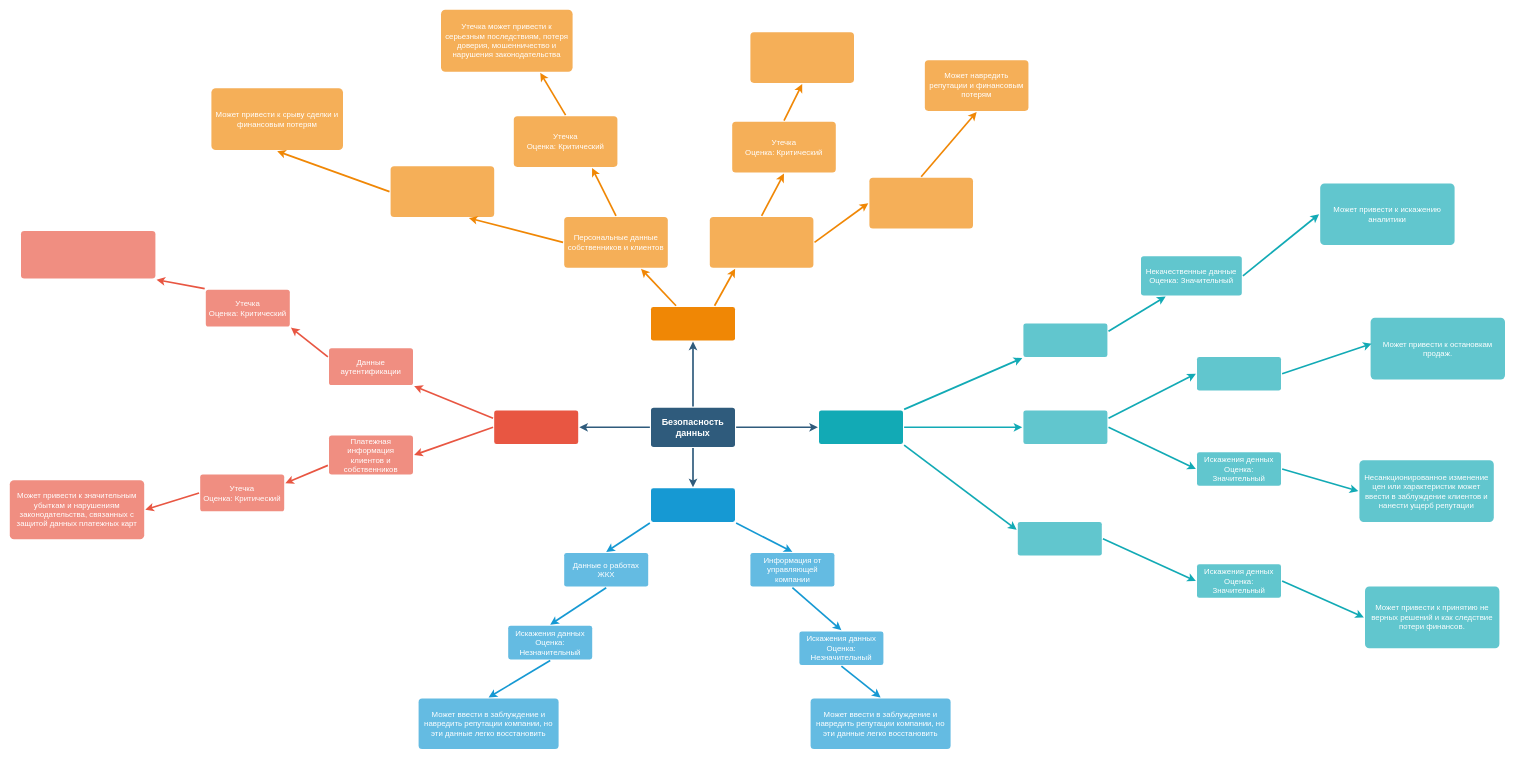
Some shapes in this 1514 by 758 pixel diagram are drawn without their labels. The box of each missing label's shape, as (x1, y1, x2, y2) in pixels:
Внутренние данные: (819, 410, 903, 444)
Информация о сделках: (710, 217, 813, 267)
Искажение Оценка: значительный: (390, 166, 494, 217)
Конфиденциальные данные: (651, 307, 735, 340)
Может предоставить конкурентам стратегическое преимущество и сорвать сделки: (750, 32, 854, 83)
Объекты недвижимости и услуги ЖКХ: (1023, 410, 1107, 444)
Отчеты и аналитика: (1018, 522, 1102, 555)
Потеря данных Оценка: Значительный: (1197, 357, 1281, 390)
Потеря данных Оценка: Критический: (869, 178, 973, 228)
Публичные данные: (651, 488, 735, 522)
Результаты осмотров недвижимости: (1023, 323, 1107, 357)
Секретные данные: (494, 410, 578, 444)
Утечка может привести к потерям, искажению и утечки данных: (21, 231, 155, 278)
